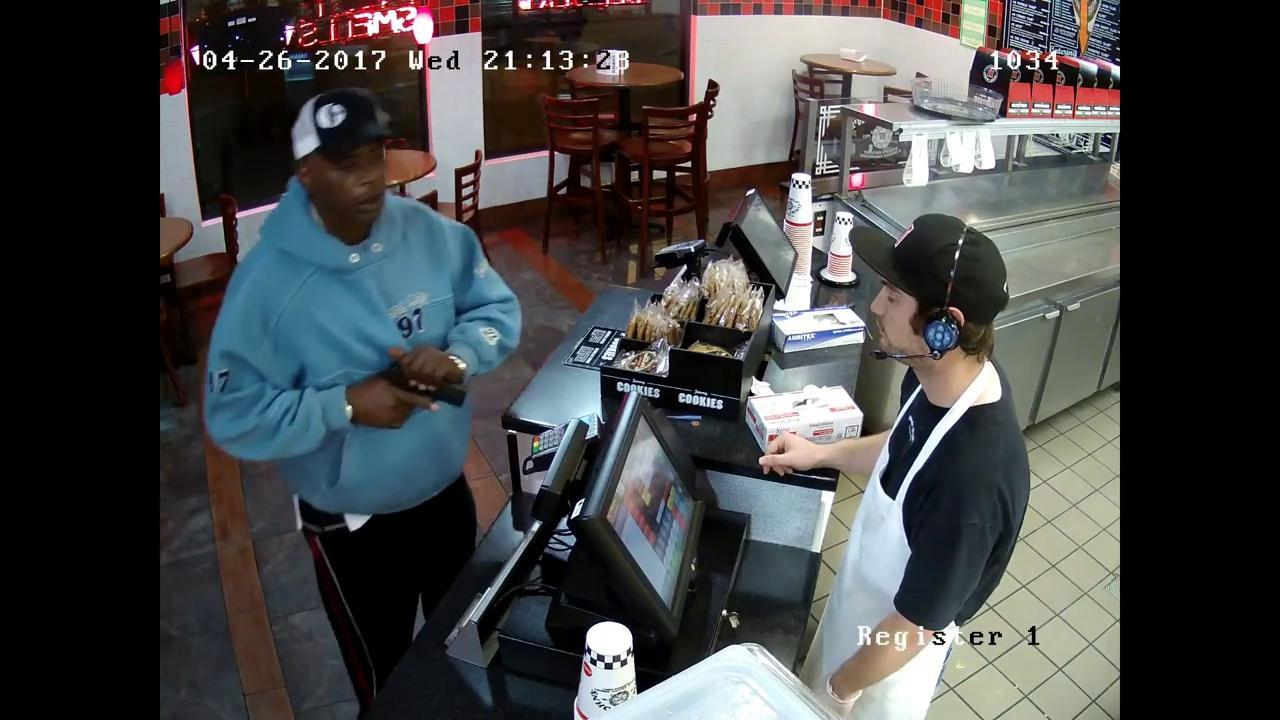Guns: (349, 343, 487, 418)
